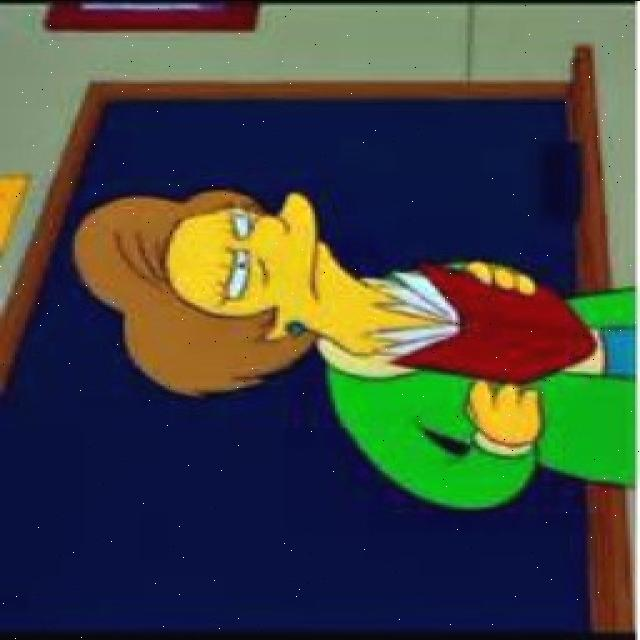Edna Krappel: (70, 184, 390, 398)
